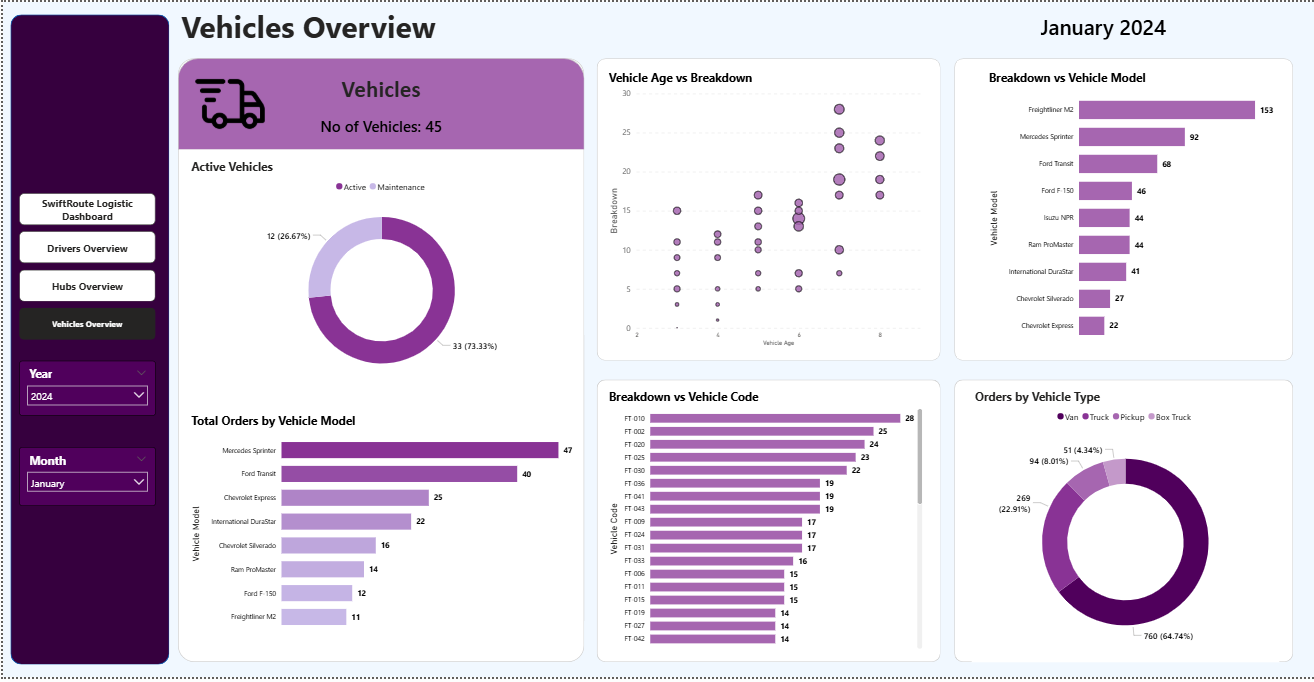

The dashboard page shown, as its layout file describes it:
{"tool":"powerbi","page":{"name":"Vehicles Overview","canvas":[2100,1080],"ordinal":3},"visuals":[{"type":"shape","box":[12,20,254,1040],"z":0},{"type":"textbox","box":[280,0,814,90],"z":1000},{"type":"slicer","fields":{"Values":["Date Table.Month"]},"box":[26,712,218,94],"z":2000},{"type":"slicer","fields":{"Values":["Date Table.Year"]},"box":[26,574,218,88],"z":3000},{"type":"cardVisual","fields":{"Data":["Orders.Year Month Title"]},"box":[1549.1,0,421.7,74.2],"z":4000},{"type":"shape","box":[950,90,550,484],"z":5000},{"type":"shape","box":[280,90,650,966],"z":6000},{"type":"shape","box":[280,90,650,146],"z":7000},{"type":"barChart","fields":{"Category":["Vehicles.Vehicle Model"],"Y":["Orders.Total Orders"]},"box":[296,656,620,362],"z":8000},{"type":"textbox","box":[422,112,366,56],"z":9000},{"type":"cardVisual","fields":{"Data":["Vehicles.No of Vehicles"]},"box":[394,168,422,58],"z":10000},{"type":"donutChart","title":"Active Vehicles","fields":{"Category":["Vehicles.Vehicle Status"],"Y":["CountNonNull(Vehicles.Vehicle ID)"]},"box":[296,250,620,368],"z":11000},{"type":"shape","box":[950,604,550,452],"z":12000},{"type":"scatterChart","title":" Vehicle Age vs Breakdown","fields":{"X":["Vehicles.Vehicle Age"],"Y":["Vehicles.Breakdown"],"Size":["Sum(Vehicles.Breakdown)1"]},"box":[964,108,512,448],"z":13000},{"type":"shape","box":[1522,90,542,484],"z":14000},{"type":"shape","box":[1522,604,542,452],"z":15000},{"type":"barChart","title":"Breakdown vs Vehicle Code","fields":{"Category":["Vehicles.Vehicle Code"],"Y":["Sum(Vehicles.Breakdown)"]},"box":[964,618,512,422],"z":16000},{"type":"barChart","title":"Breakdown vs Vehicle Model","fields":{"Y":["Sum(Vehicles.Breakdown)"],"Category":["Vehicles.Vehicle Model"]},"box":[1572,108,470,448],"z":17000},{"type":"donutChart","title":"Orders by Vehicle Type","fields":{"Category":["Orders.Vehicle Type"],"Y":["Orders.Total Orders"]},"box":[1550,618,492,438],"z":18000},{"type":"pageNavigator","box":[26,306,218,234],"z":19000},{"type":"image","box":[304,100,118,126],"z":20000}]}

Visuals, with their boxes in screenshot pixels (x1, y1, x2, y2), scaled from the page's 2100x1080 canvas onto the 1314x682 screenshot:
shape: <region>8, 13, 166, 669</region>
textbox: <region>175, 0, 685, 57</region>
slicer - Date Table.Month: <region>16, 450, 153, 509</region>
slicer - Date Table.Year: <region>16, 362, 153, 418</region>
cardVisual - Orders.Year Month Title: <region>969, 0, 1233, 47</region>
shape: <region>594, 57, 939, 362</region>
shape: <region>175, 57, 582, 667</region>
shape: <region>175, 57, 582, 149</region>
barChart - Vehicles.Vehicle Model x Orders.Total Orders: <region>185, 414, 573, 643</region>
textbox: <region>264, 71, 493, 106</region>
cardVisual - Vehicles.No of Vehicles: <region>247, 106, 511, 143</region>
"Active Vehicles" donutChart: <region>185, 158, 573, 390</region>
shape: <region>594, 381, 939, 667</region>
" Vehicle Age vs Breakdown" scatterChart: <region>603, 68, 924, 351</region>
shape: <region>952, 57, 1291, 362</region>
shape: <region>952, 381, 1291, 667</region>
"Breakdown vs Vehicle Code" barChart: <region>603, 390, 924, 657</region>
"Breakdown vs Vehicle Model" barChart: <region>984, 68, 1278, 351</region>
"Orders by Vehicle Type" donutChart: <region>970, 390, 1278, 667</region>
pageNavigator: <region>16, 193, 153, 341</region>
image: <region>190, 63, 264, 143</region>
